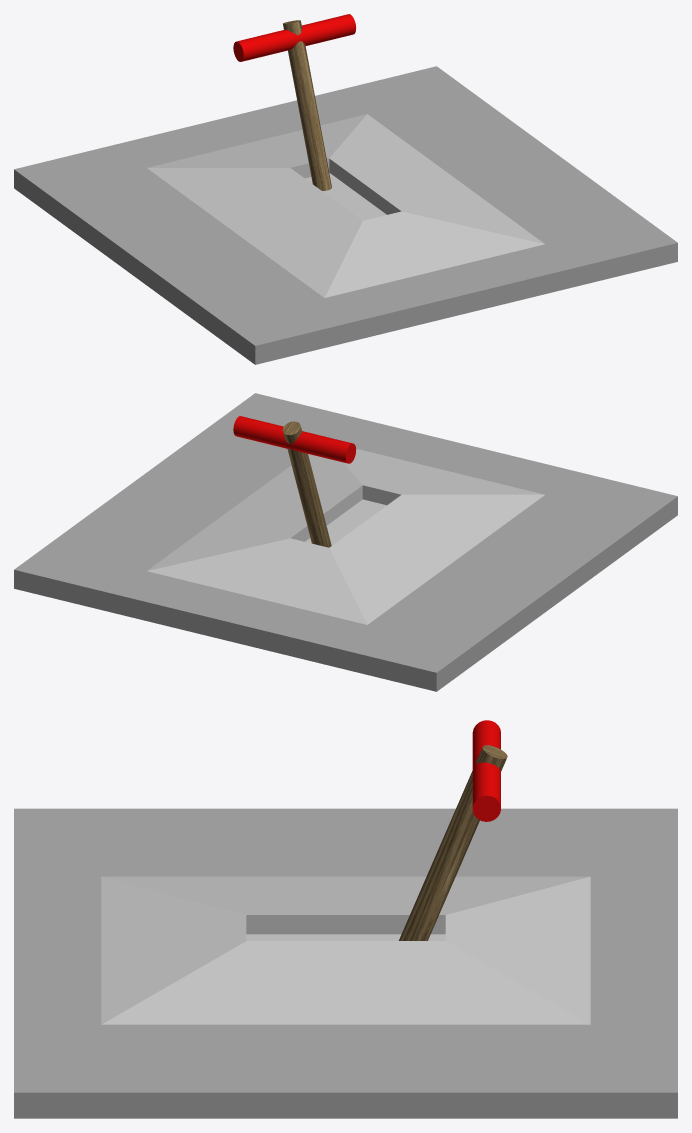
File: Two hand lever.fbx
3 renders of one model, top to bottom at view 1: azimuth 30°, elevation 25°; view 2: azimuth 150°, elevation 25°; view 3: azimuth 270°, elevation 25°, orthographic. The views are drawn at different scales.
Parts seen in each view (by area): view 1: pasted__polySurface32, pasted__polySurface33, pasted__polySurface35, pasted__polySurface34; view 2: pasted__polySurface32, pasted__polySurface33, pasted__polySurface34, pasted__polySurface35; view 3: pasted__polySurface32, pasted__polySurface33, pasted__polySurface35, pasted__polySurface34.
Part boxes in pixels (box(x1,y1,x2,y2)): pasted__polySurface32: box(14, 66, 677, 364); pasted__polySurface33: box(147, 114, 544, 297); pasted__polySurface35: box(283, 20, 331, 190); pasted__polySurface34: box(233, 14, 356, 61); pasted__polySurface32: box(14, 393, 677, 691); pasted__polySurface33: box(147, 448, 544, 624); pasted__polySurface34: box(233, 416, 356, 463); pasted__polySurface35: box(282, 421, 331, 547); pasted__polySurface32: box(14, 808, 677, 1118); pasted__polySurface33: box(101, 876, 590, 1024); pasted__polySurface35: box(399, 745, 507, 940); pasted__polySurface34: box(472, 720, 500, 821).
Bounding box in the file's own units: 5.95 × 2.24 × 5.88.
